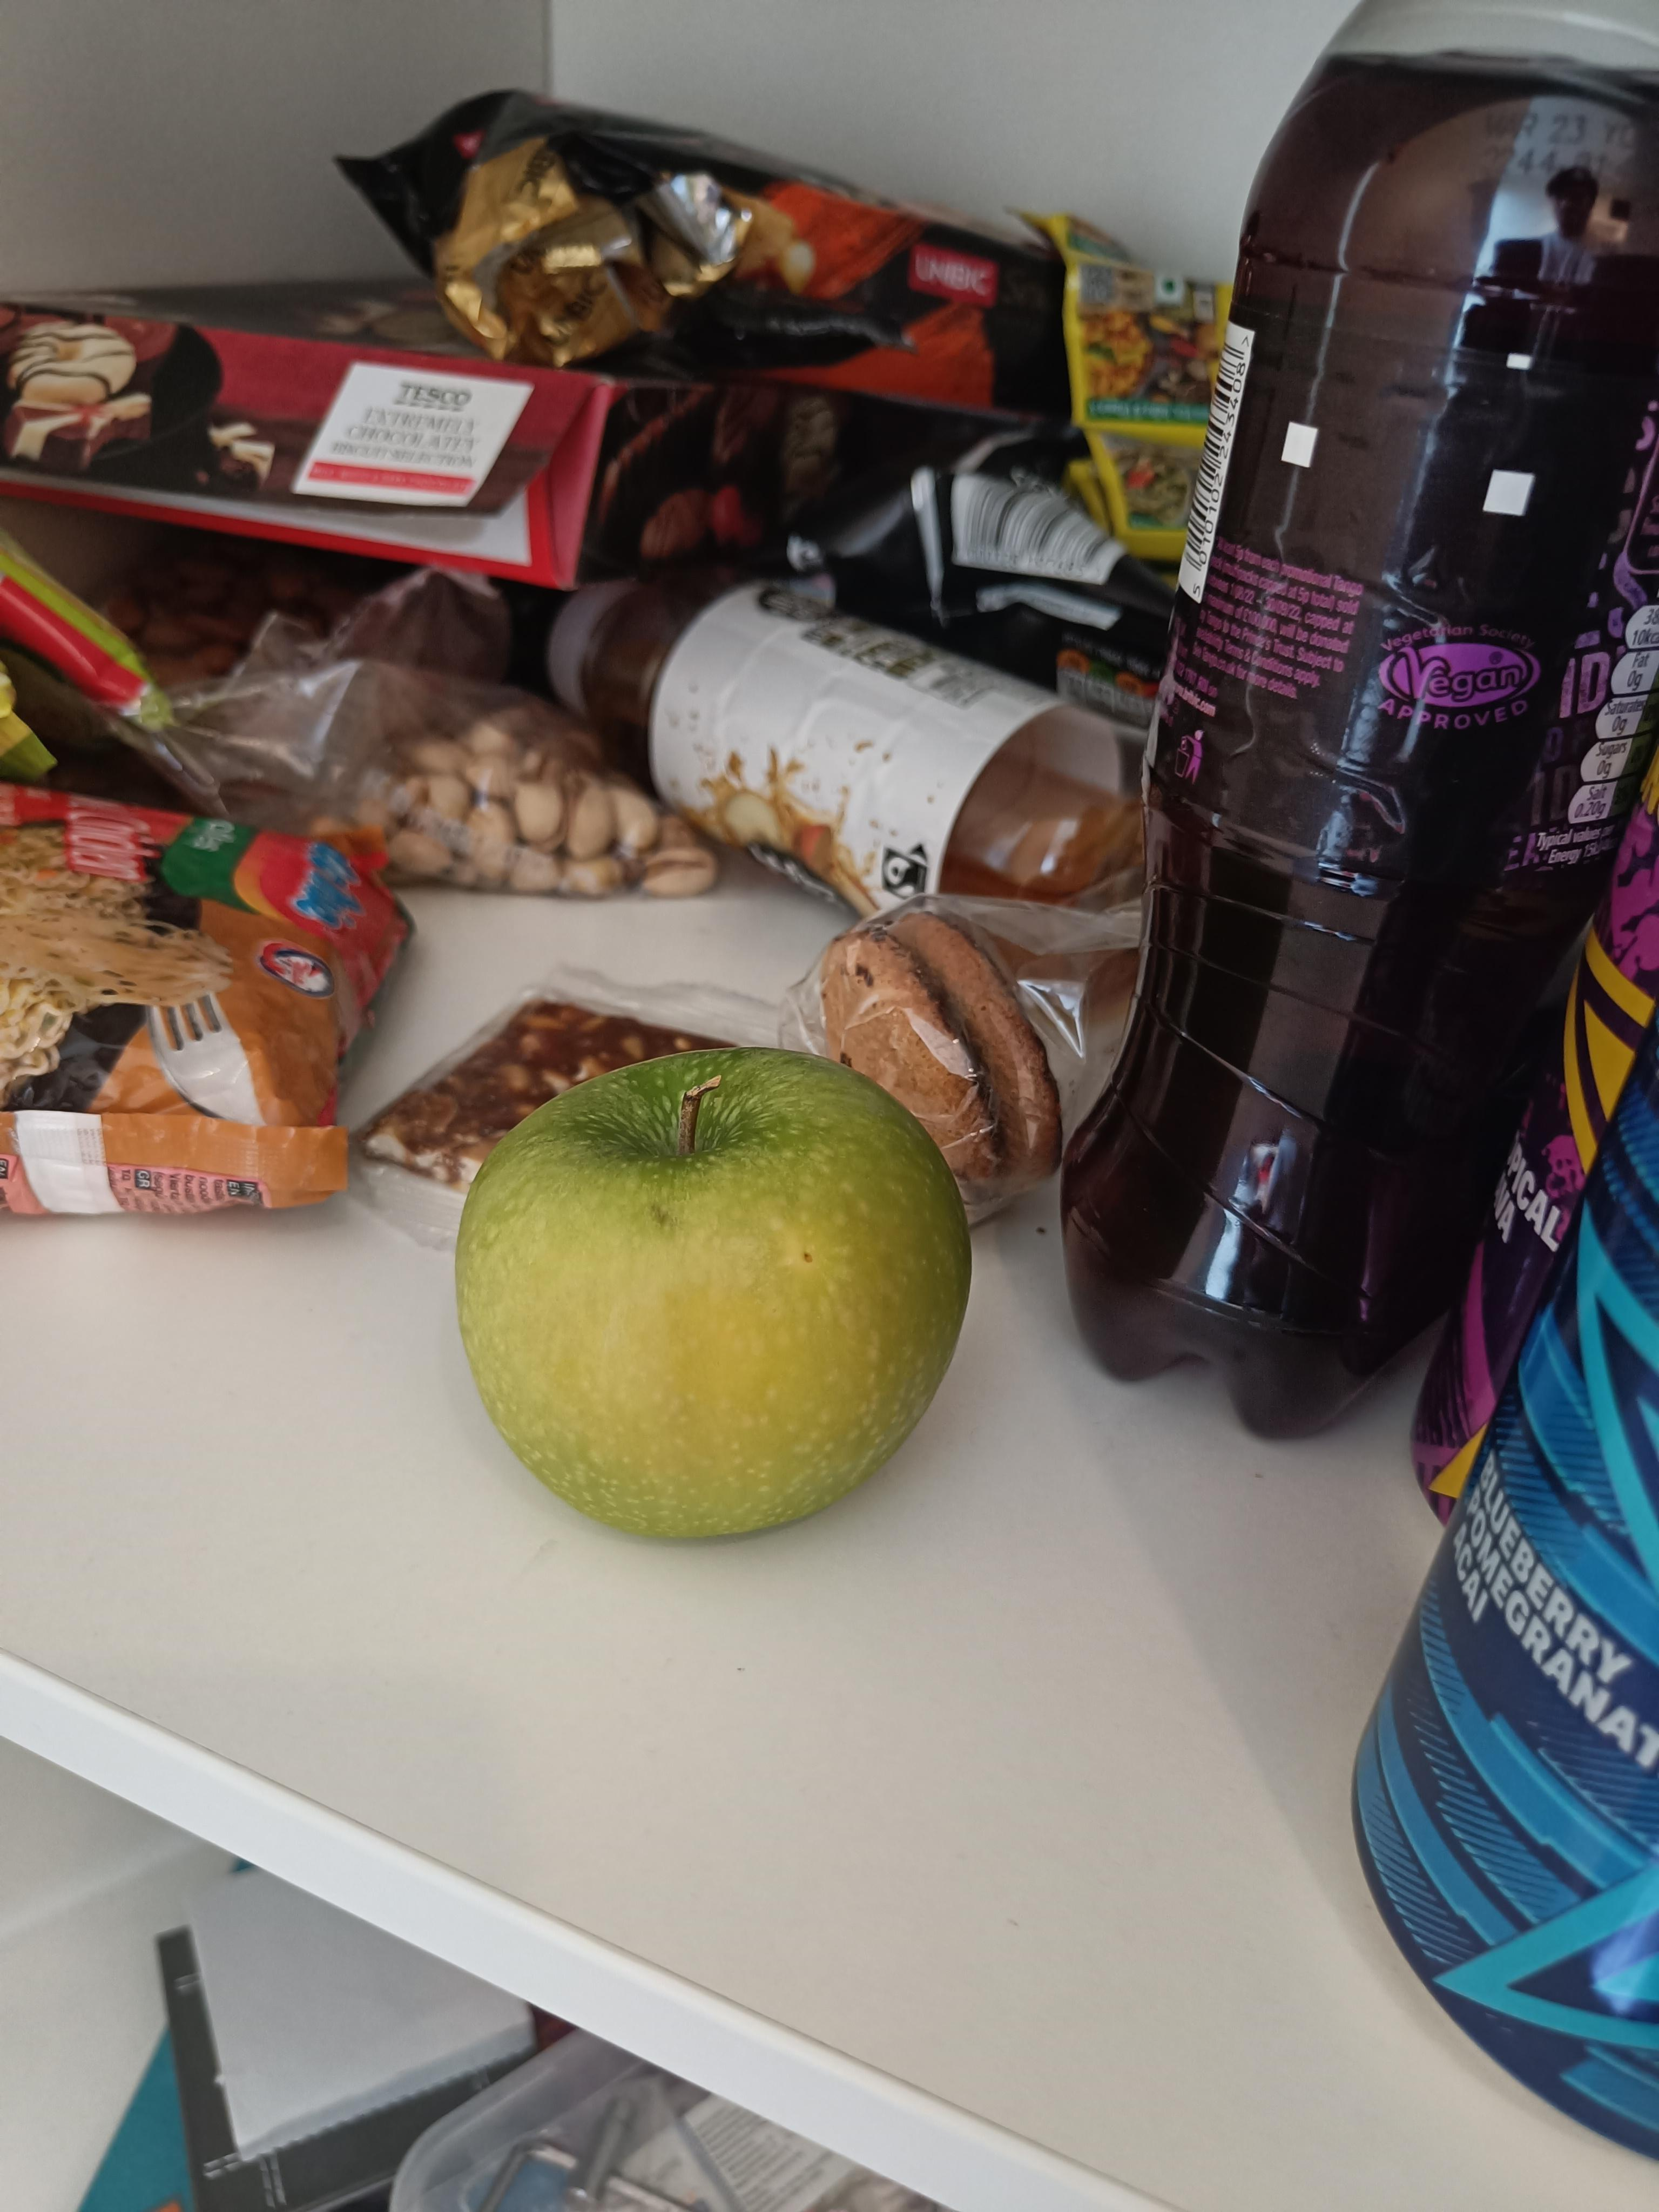Apple: (441, 1015, 957, 1547)
